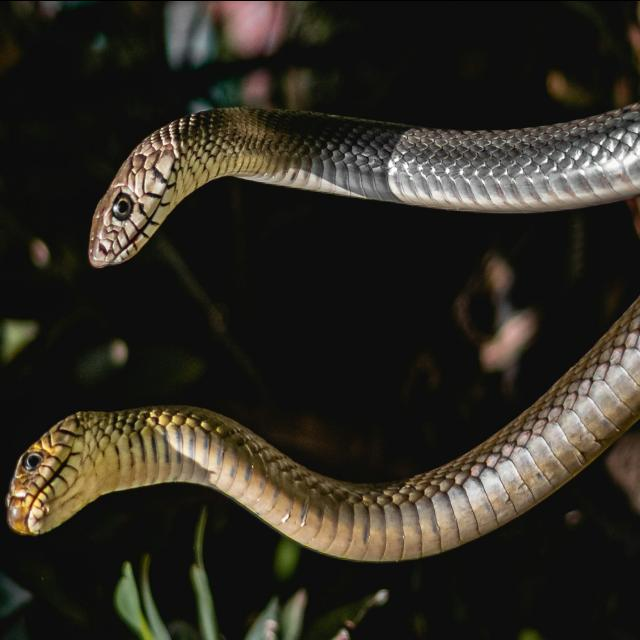Snake: (2, 0, 640, 565)
